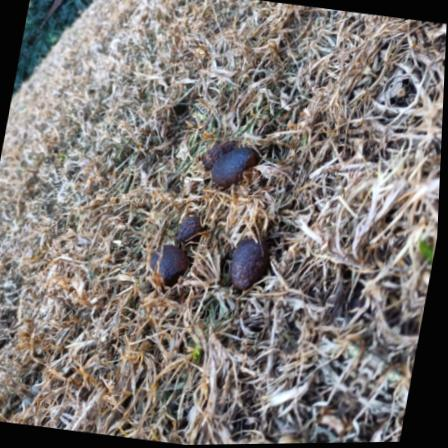dog-poop: (151, 208, 214, 289), (195, 132, 260, 196), (222, 226, 278, 299)
